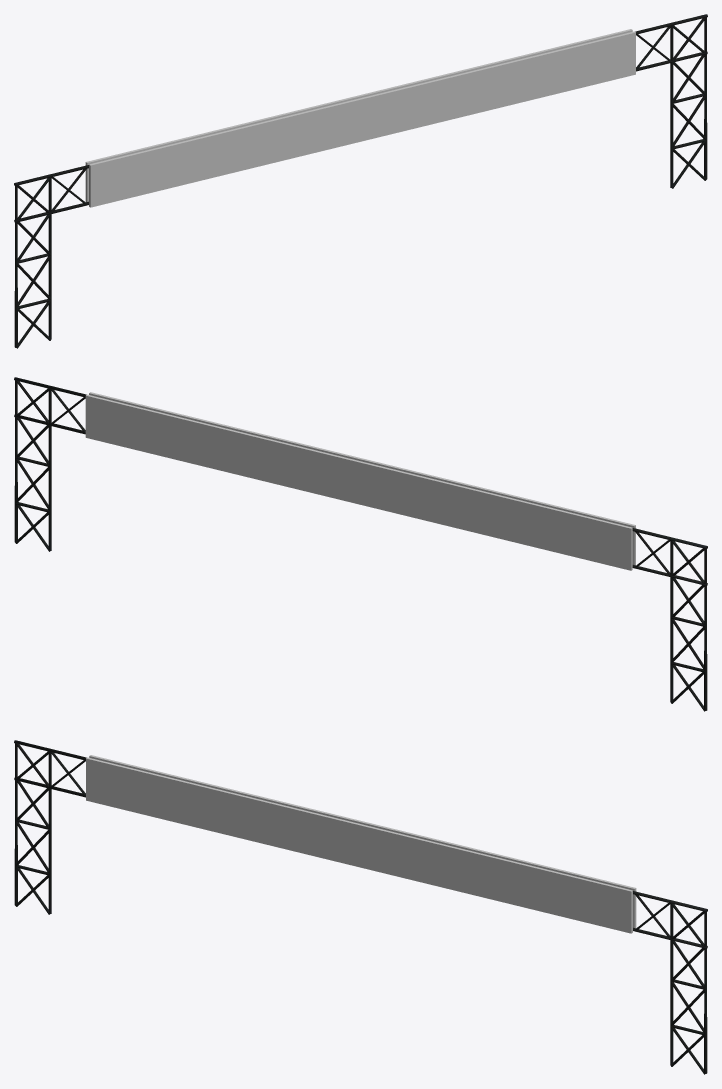
Rendered from OutDoor-D-1.obj.
The picture shows the model from 3 angles, top to bottom: view 1: azimuth 30°, elevation 25°; view 2: azimuth 150°, elevation 25°; view 3: azimuth 330°, elevation 25°; orthographic projection.
Visible parts, largest first — view 1: Outdoor-D_Mesh.001; view 2: Outdoor-D_Mesh.001; view 3: Outdoor-D_Mesh.001.
Boxes of the visible parts, x1,y1,x2,y2 form: Outdoor-D_Mesh.001: [14, 14, 707, 348]; Outdoor-D_Mesh.001: [14, 377, 707, 711]; Outdoor-D_Mesh.001: [14, 740, 707, 1074].
Size of the model in its own units: 48.03 by 11.11 by 0.5855.
